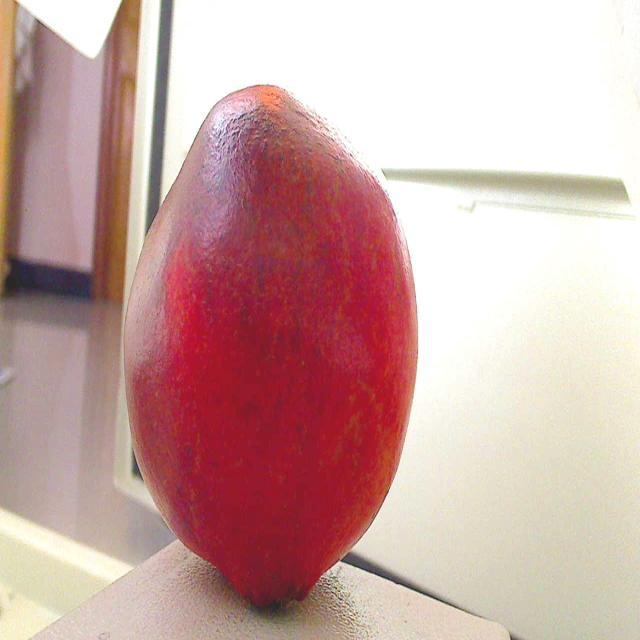pomegranate: (110, 64, 421, 619)
